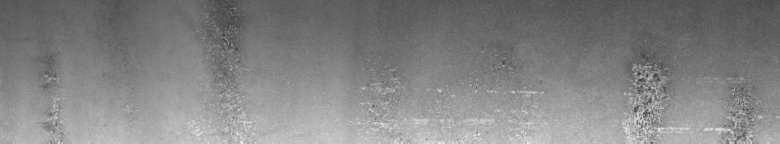hc: (624, 53, 763, 136)
